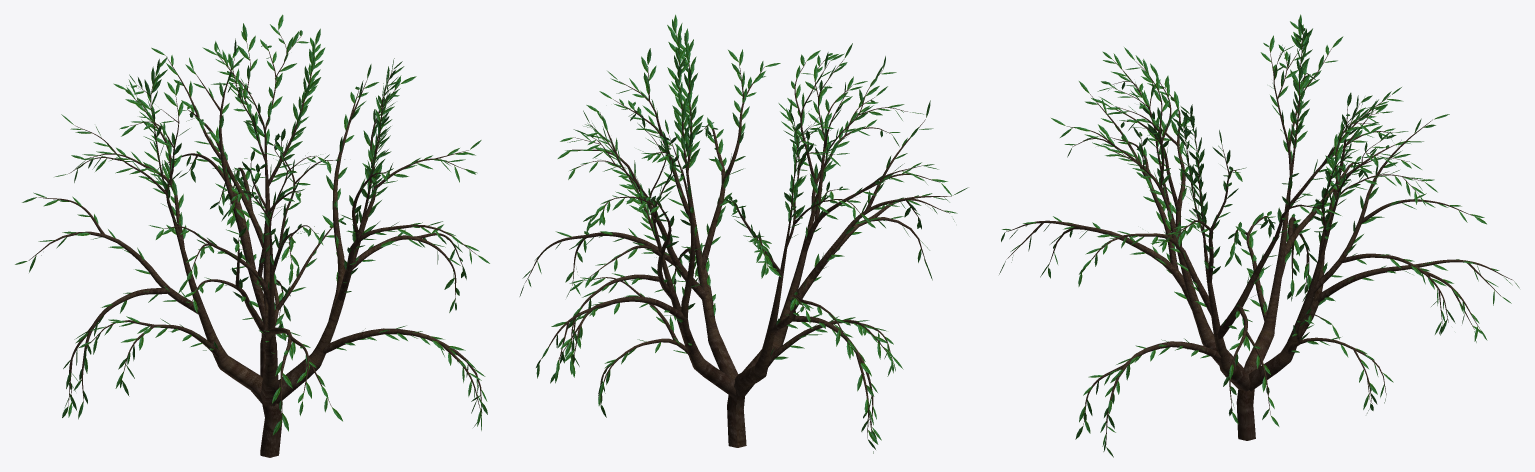
Rendered from Amazonie_Tree_3.fbx.
3 renders of one model, left to right at view 1: azimuth 30°, elevation 25°; view 2: azimuth 150°, elevation 25°; view 3: azimuth 270°, elevation 25°, orthographic. The views are drawn at different scales.
Visible parts, largest first — view 1: tree, leaves; view 2: tree, leaves; view 3: tree, leaves.
Boxes of the visible parts, bbox=[...] form: tree: bbox=[28, 30, 481, 457]; leaves: bbox=[15, 14, 489, 435]; tree: bbox=[524, 34, 951, 447]; leaves: bbox=[519, 14, 968, 453]; tree: bbox=[1005, 32, 1513, 444]; leaves: bbox=[999, 14, 1519, 457].
Bounding box in the file's own units: 432 × 412 × 515.
